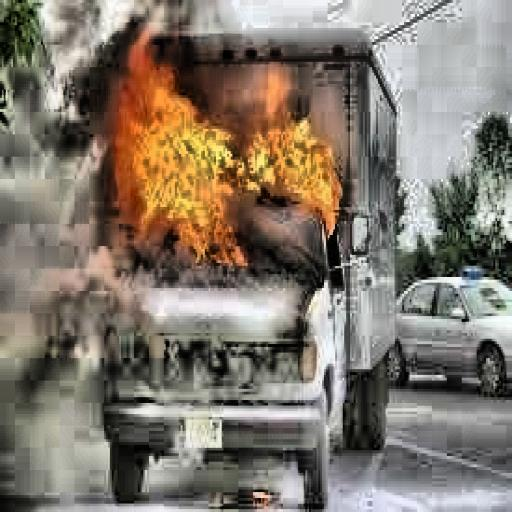fire: (117, 40, 348, 272)
